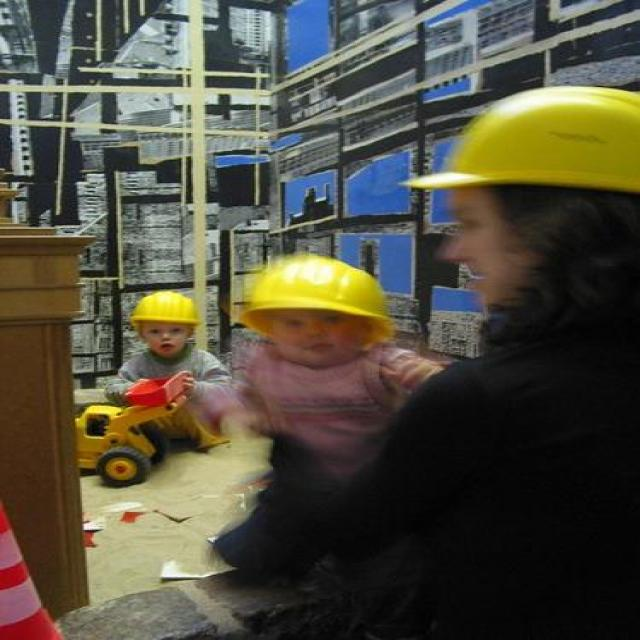Safety-Helmet: (397, 83, 640, 212), (227, 244, 408, 344), (125, 286, 208, 332)
